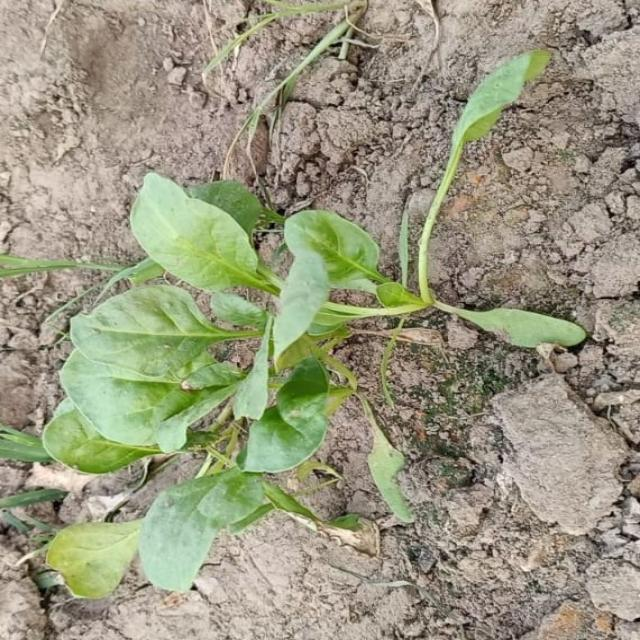plant: (41, 50, 585, 598)
